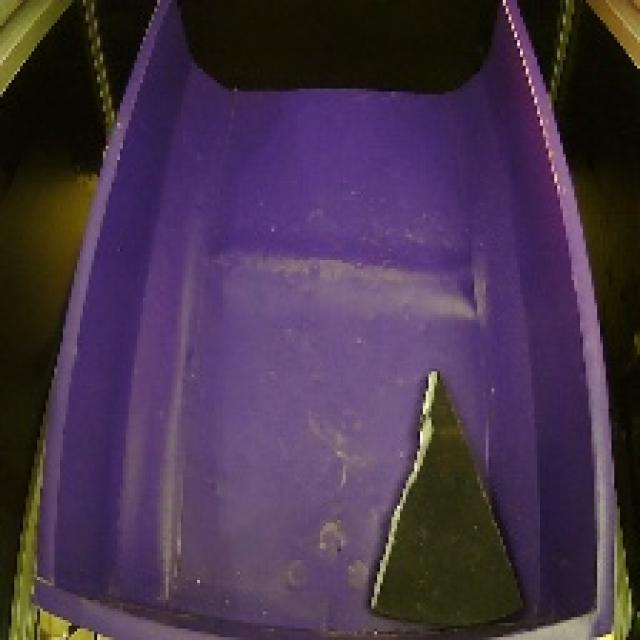china: (351, 362, 544, 634)
